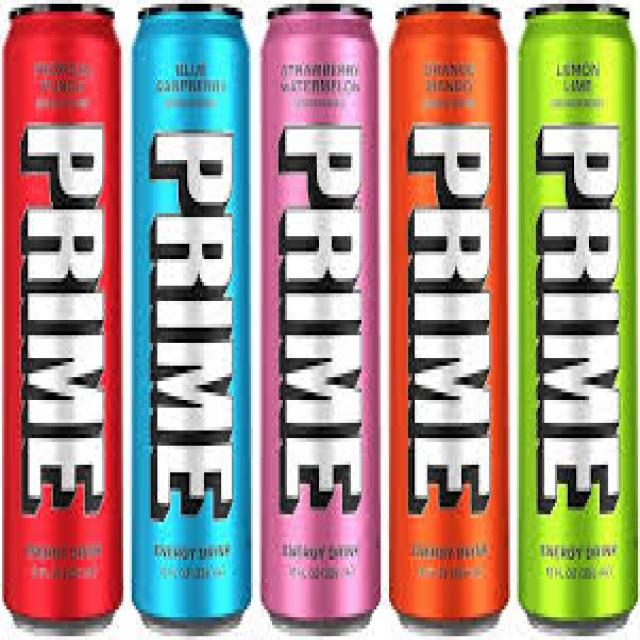Cans: (253, 4, 387, 640), (126, 4, 260, 636), (382, 4, 514, 632), (508, 4, 638, 632), (2, 4, 126, 632)
